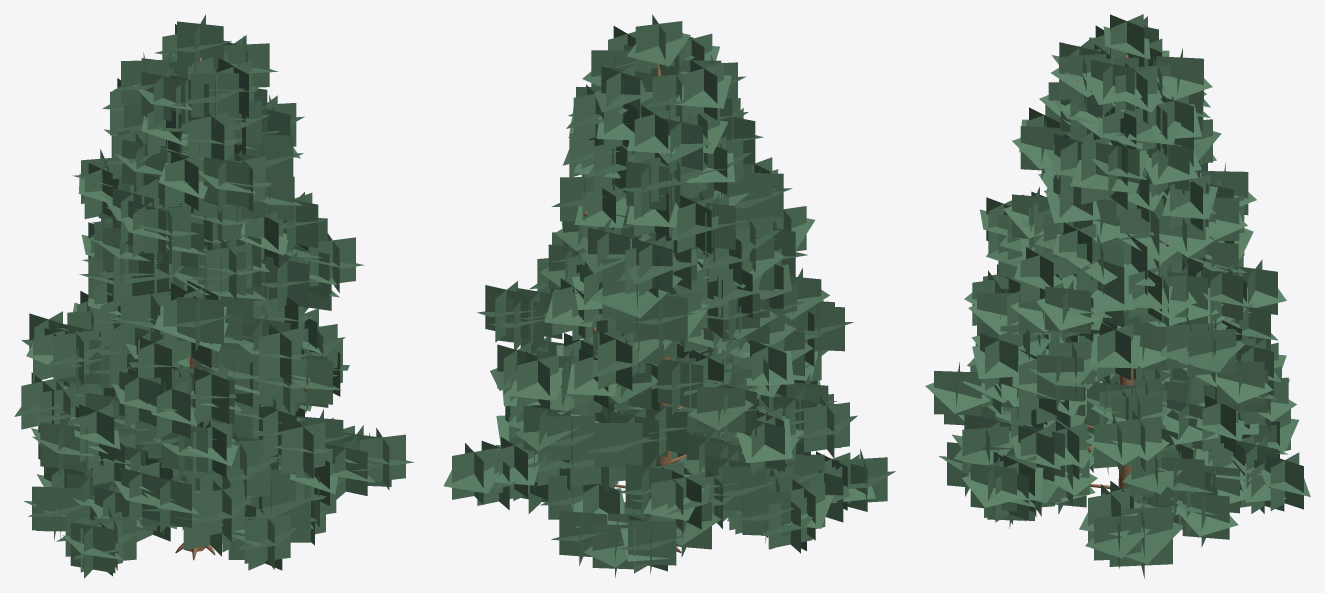
File: pin_1_jeu.glb
The picture shows the model from 3 angles, left to right: view 1: azimuth 30°, elevation 25°; view 2: azimuth 150°, elevation 25°; view 3: azimuth 270°, elevation 25°; orthographic projection.
Visible parts, largest first — view 1: Pin_T1_Leger; view 2: Pin_T1_Leger; view 3: Pin_T1_Leger.
Part boxes in pixels (bbox=[...]): Pin_T1_Leger: bbox=[14, 14, 413, 578]; Pin_T1_Leger: bbox=[443, 14, 895, 577]; Pin_T1_Leger: bbox=[925, 14, 1310, 578].
Size of the model in its own units: 5.03 by 7.55 by 5.05.
